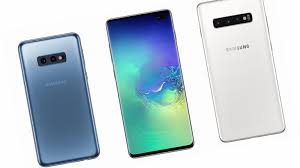samsung: (101, 6, 198, 161), (196, 1, 287, 145), (15, 32, 104, 165)
